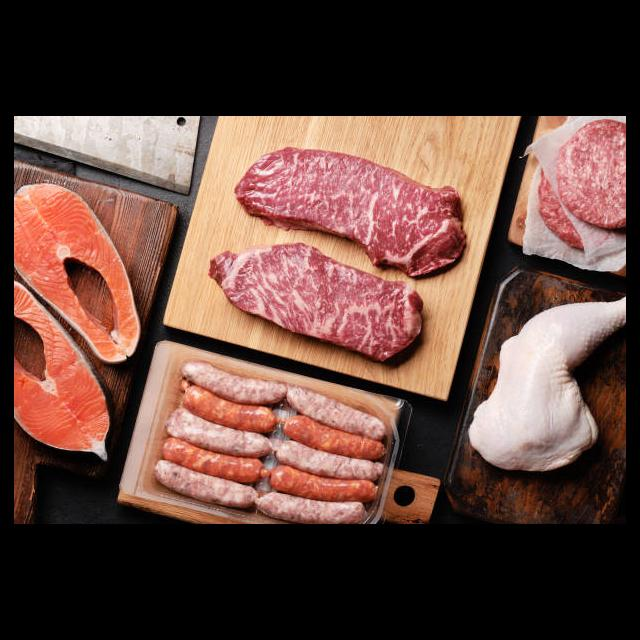beef: (236, 143, 470, 277), (209, 240, 423, 363)
